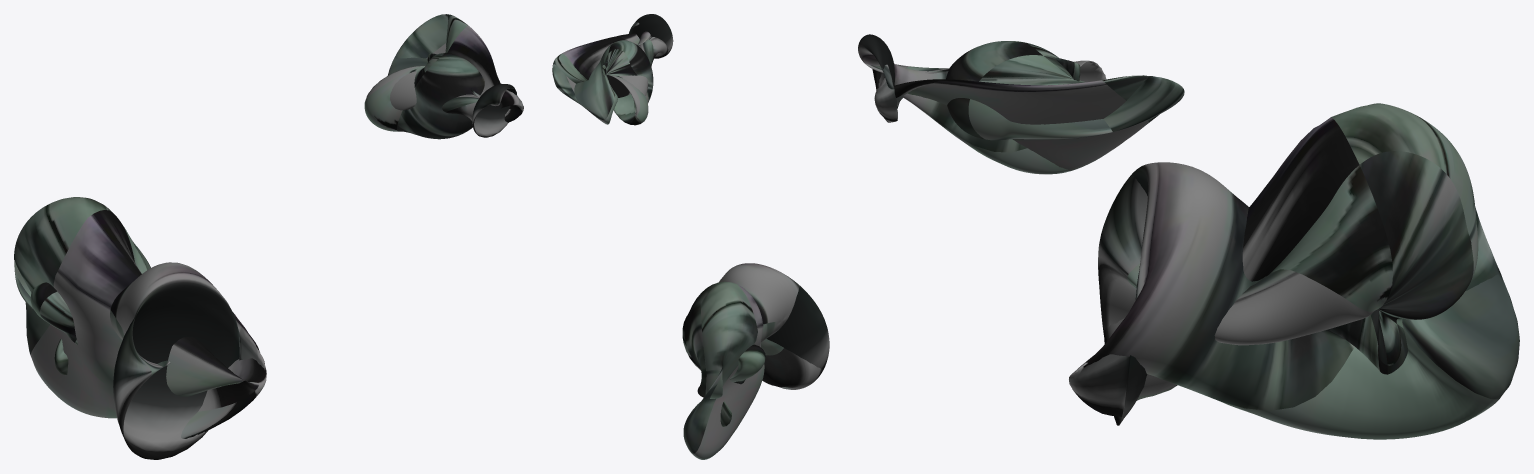
File: nubes.glb
3 renders of one model, left to right at view 1: azimuth 30°, elevation 25°; view 2: azimuth 150°, elevation 25°; view 3: azimuth 270°, elevation 25°, orthographic. The views are drawn at different scales.
Visible parts, largest first — view 1: Esfera; view 2: Esfera; view 3: Esfera.
Part boxes in pixels (bbox=[...]): Esfera: bbox=[14, 14, 523, 459]; Esfera: bbox=[552, 14, 829, 459]; Esfera: bbox=[858, 34, 1519, 439].
Bounding box in the file's own units: 0.5438 × 0.5697 × 0.5798.
Materials: 1 (1 with a texture image).
